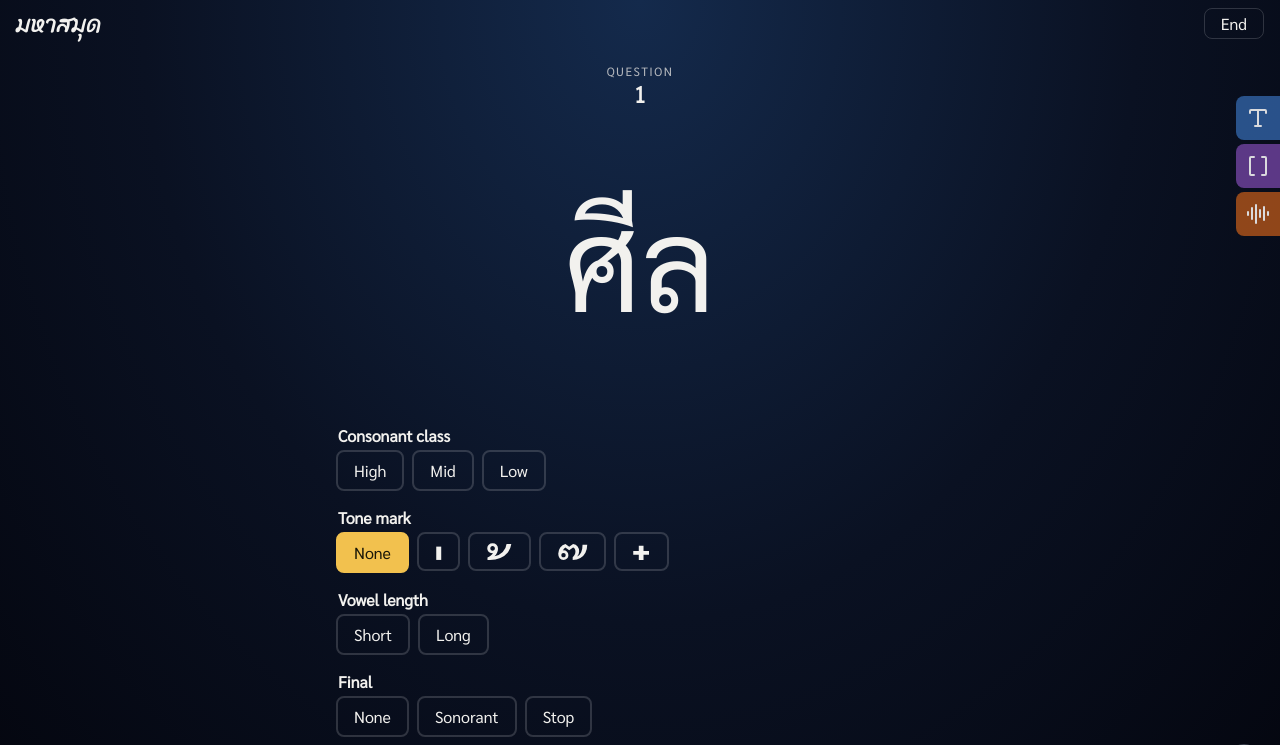
it: SyllablePage › in learning mode › shows the consonant table in its panel
This screenshot has width=1280, height=745.
Click the button named "Consonants": (1258, 118) [1236,96,1279,140]
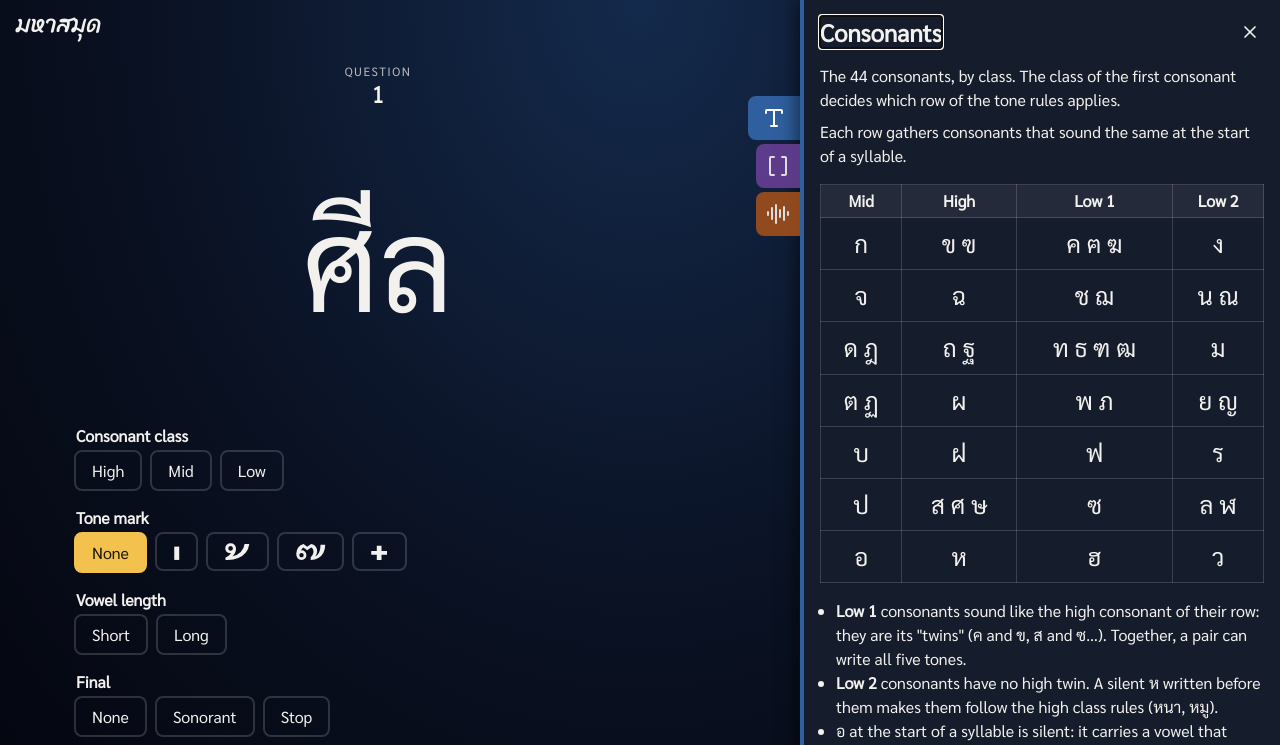
Now the column headings read "Mid", "High", "Low 1", "Low 2", in this order, box [820,184,902,218]; [902,184,1016,218]; [1016,184,1173,218]; [1173,184,1264,218]
